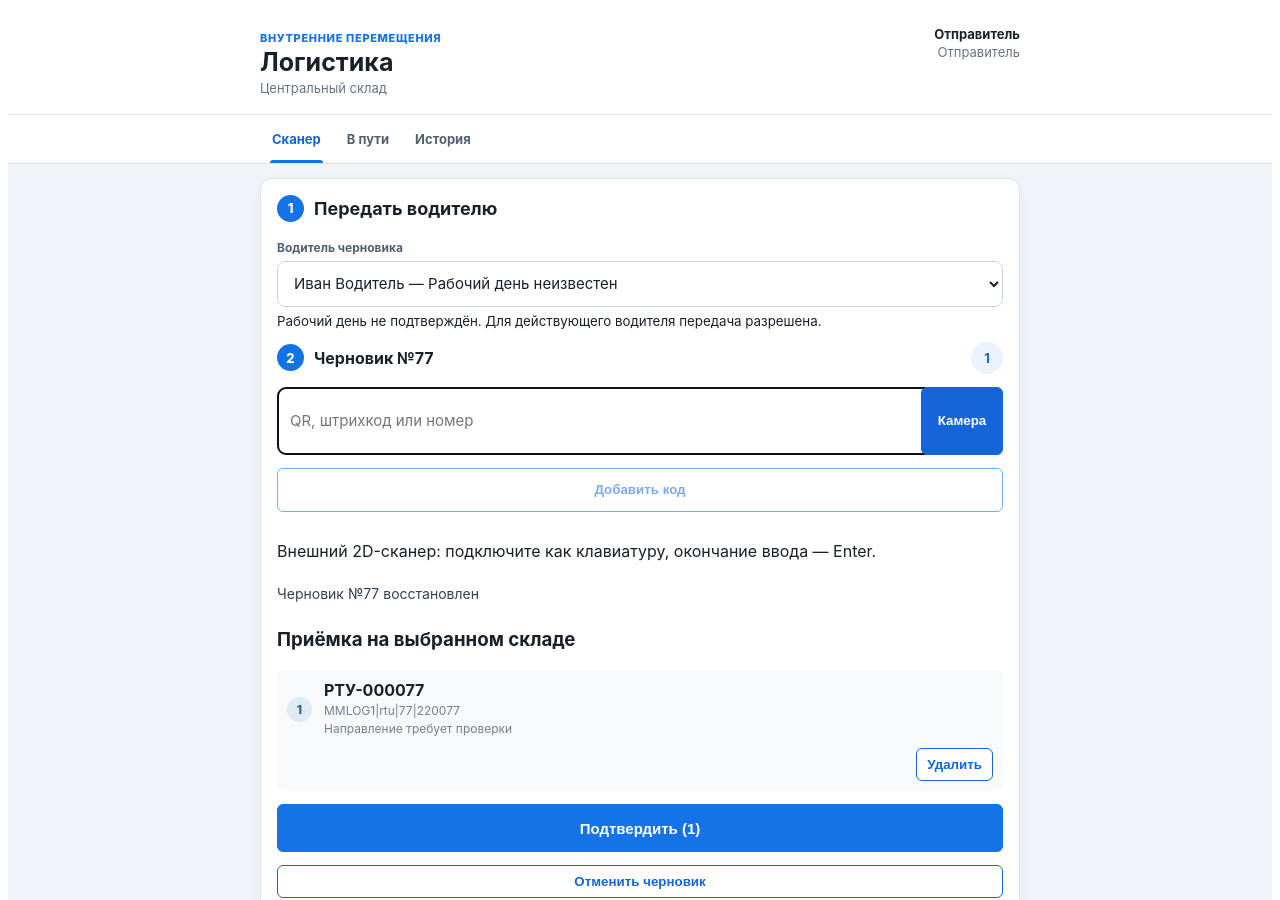
Scenario: LogisticsWorkspace › восстанавливает собственный открытый черновик после перезагрузки
Expected: the text "Черновик №77" is shown, [314, 348, 434, 368]
Expected: the text "РТУ-000077" is shown, [324, 680, 424, 700]
Click the button "Удалить" at (955, 765), box [916, 748, 993, 781]
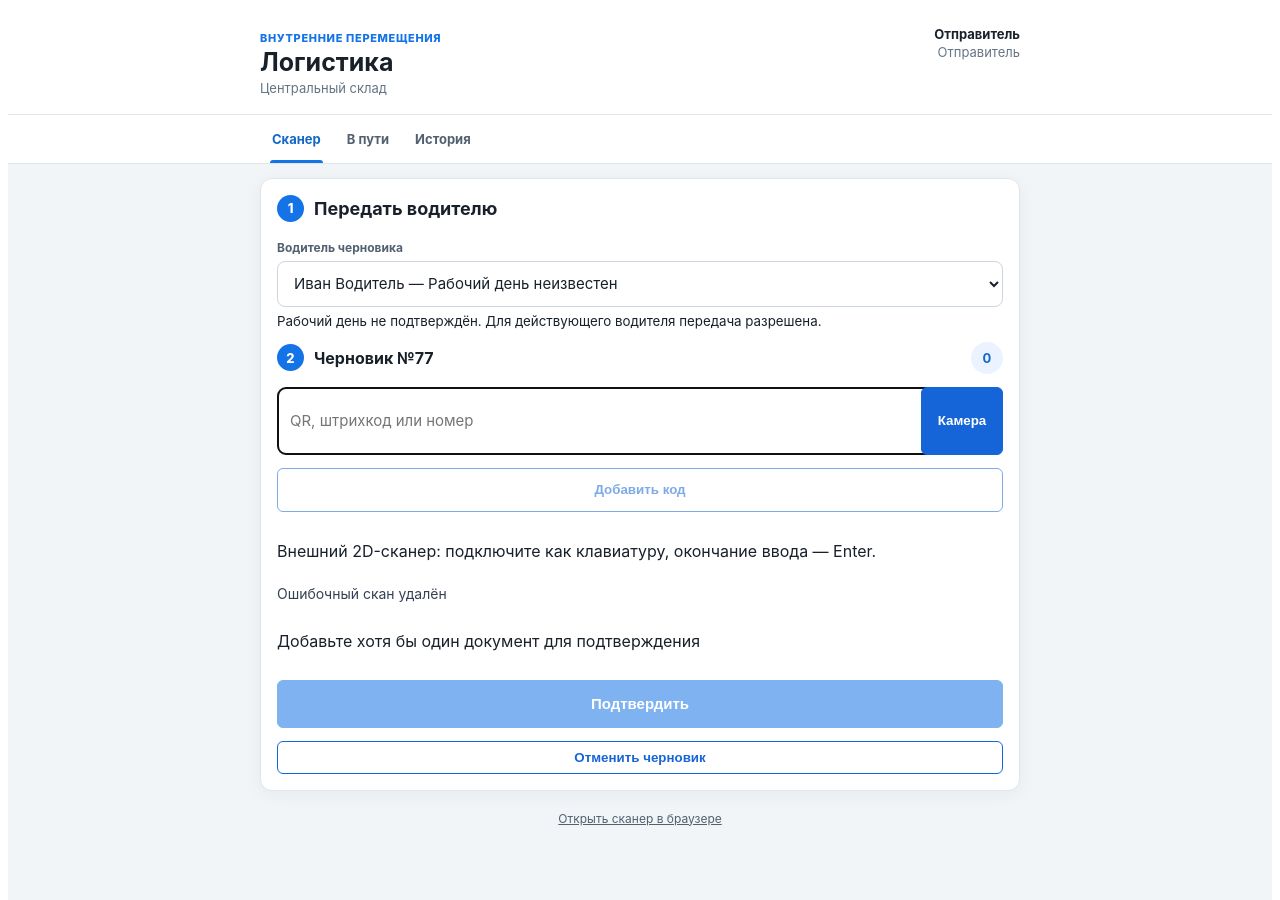
Expected: the text "Ошибочный скан удалён" is shown, [277, 585, 447, 602]
Expected: the text "РТУ-000077" is gone
Click the button "Отменить черновик" at (640, 757), box [277, 741, 1003, 774]
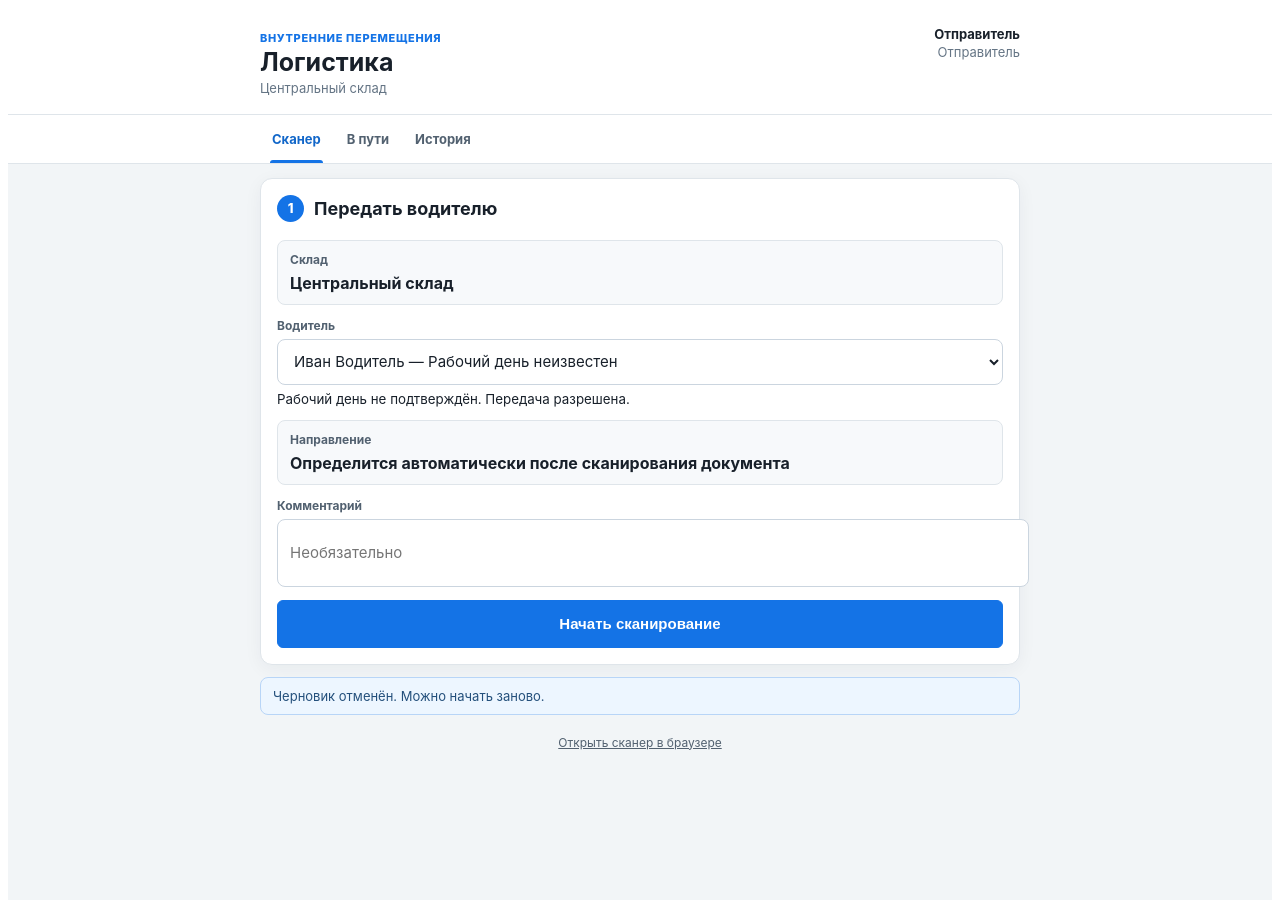
Expected: the text "Черновик отменён. Можно начать заново." is shown, [260, 677, 1020, 715]
Expected: the button "Начать сканирование" is enabled, [277, 600, 1003, 648]
